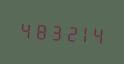eight: (31, 17, 44, 42)
four: (17, 16, 30, 41), (88, 21, 101, 46)
one: (74, 20, 87, 45)
three: (46, 18, 59, 43)
two: (60, 19, 73, 44)
